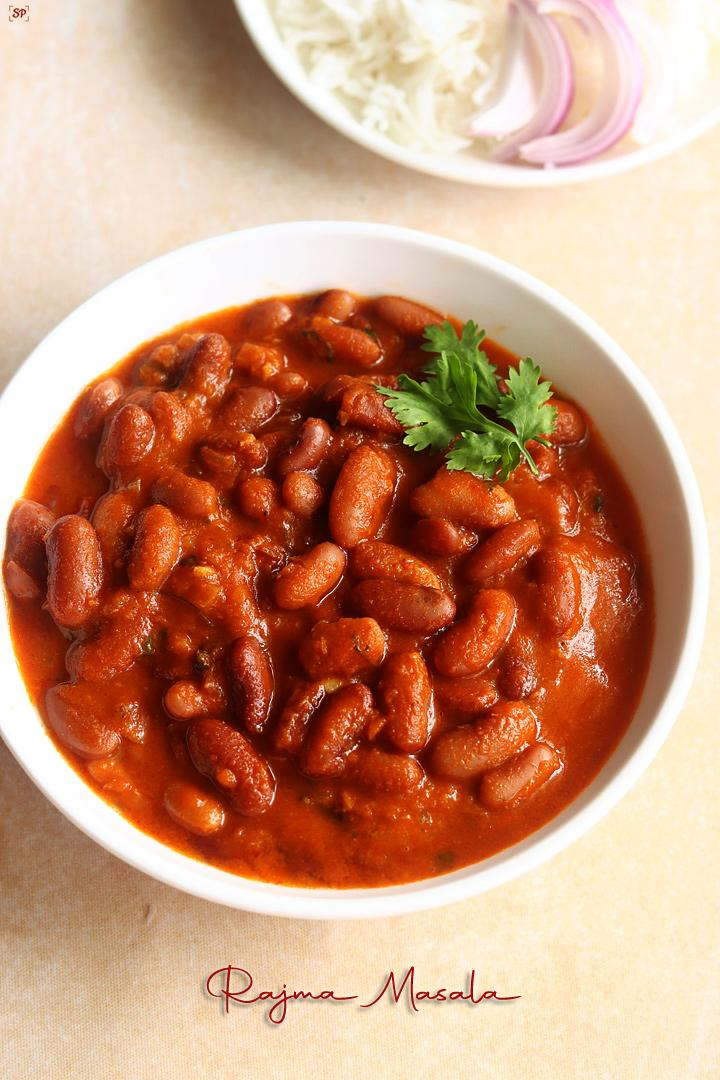rajma: (15, 298, 658, 902)
